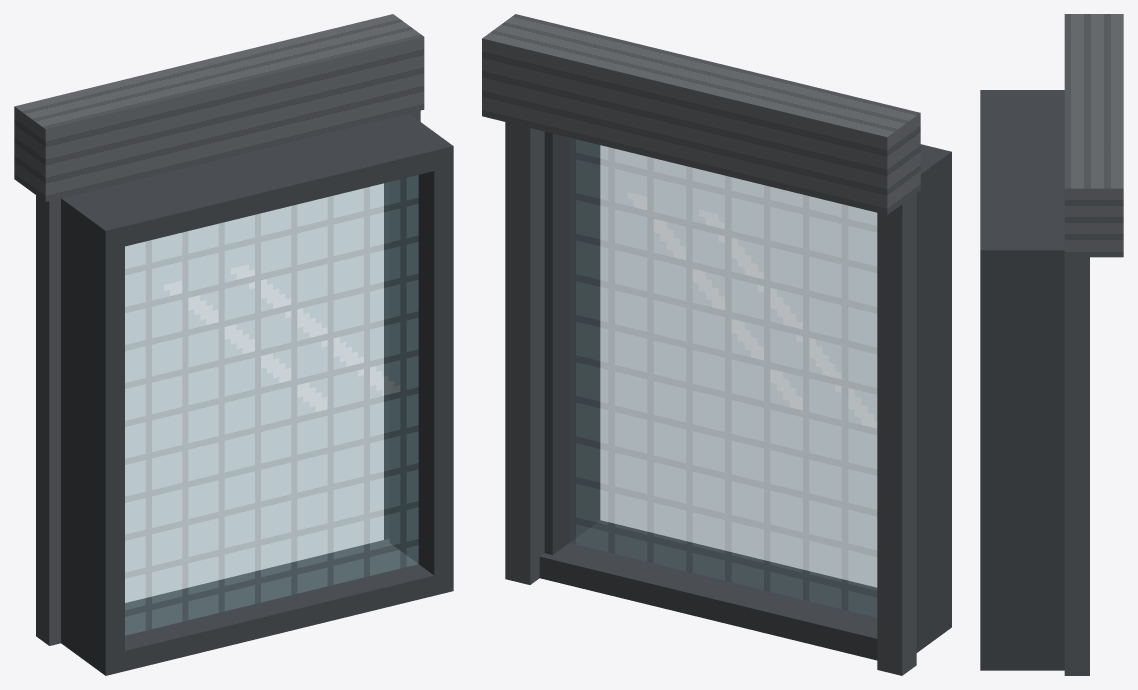
The model's file is t_reinforced_glass_shutter_open.glb.
The picture shows the model from 3 angles, left to right: view 1: azimuth 30°, elevation 25°; view 2: azimuth 150°, elevation 25°; view 3: azimuth 270°, elevation 25°; orthographic projection. The views are drawn at different scales.
Parts seen in each view (by area): view 1: block_glass, block_shutter-box, block_stile-1, block_stile1, block_lintel, block_sill, block_rail-1, block_rail1; view 2: block_glass, block_shutter-box, block_sill, block_stile1, block_rail-1, block_rail1, block_stile-1, block_lintel; view 3: block_stile1, block_lintel, block_shutter-box, block_rail1, block_sill, block_stile-1.
Boxes of the visible parts, x1,y1,x2,y2 form: block_glass: (125, 175, 418, 635); block_shutter-box: (14, 14, 424, 201); block_stile-1: (61, 194, 124, 674); block_stile1: (389, 113, 453, 595); block_lintel: (61, 113, 453, 250); block_sill: (61, 539, 453, 675); block_rail-1: (36, 195, 60, 645); block_rail1: (384, 110, 420, 539); block_glass: (569, 138, 877, 617); block_shutter-box: (482, 14, 920, 214); block_sill: (539, 520, 951, 660); block_stile1: (544, 131, 600, 554); block_rail-1: (877, 194, 916, 675); block_rail1: (505, 122, 544, 584); block_stile-1: (916, 150, 951, 652); block_lintel: (916, 144, 951, 198); block_stile1: (980, 241, 1064, 670); block_lintel: (980, 90, 1064, 269); block_shutter-box: (1064, 14, 1123, 257); block_rail1: (1064, 257, 1089, 675); block_sill: (980, 651, 1064, 670); block_stile-1: (980, 90, 1064, 98).
Bounding box in the file's own units: 0.98 × 1.28 × 0.34.
Materials: 2 (2 with a texture image).
